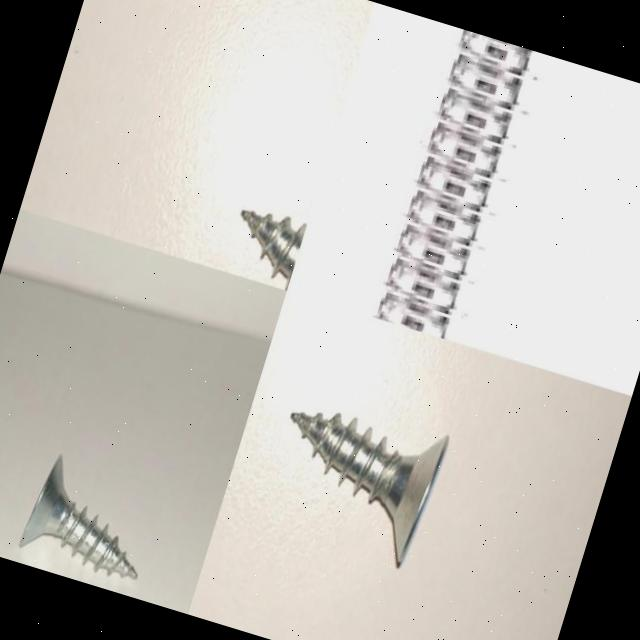Screw: (366, 26, 536, 344), (290, 411, 449, 566), (19, 454, 136, 577), (241, 210, 306, 290)
